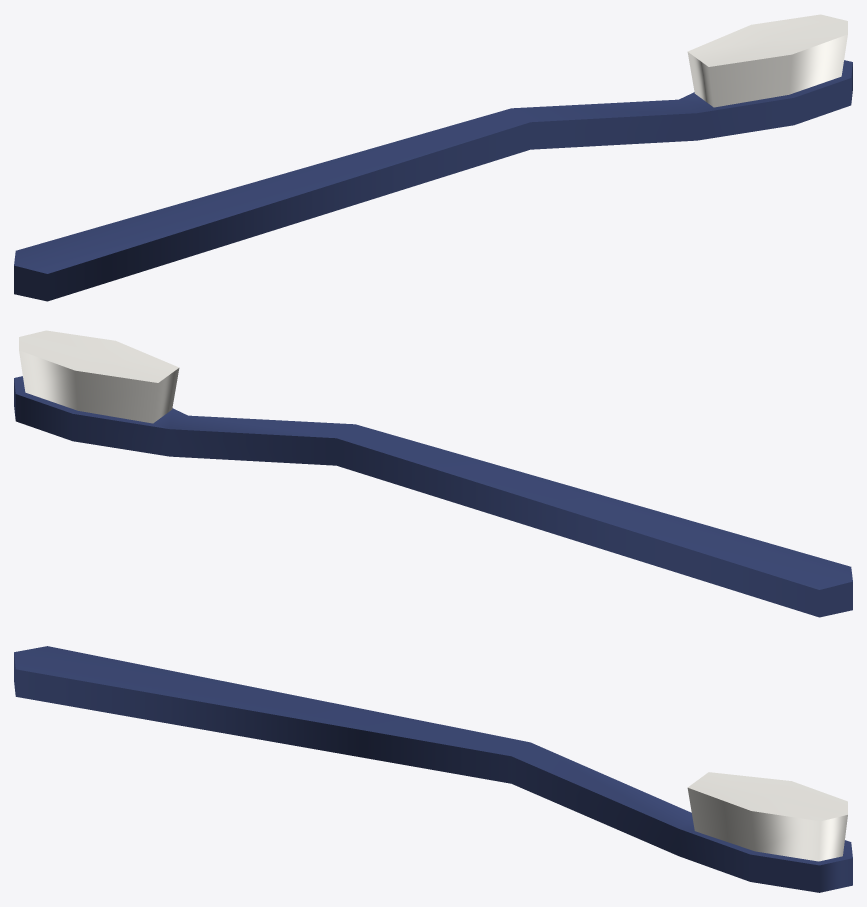
The model's file is SM_Tooth_Brush_1_03.fbx.
The picture shows the model from 3 angles, top to bottom: view 1: azimuth 30°, elevation 25°; view 2: azimuth 150°, elevation 25°; view 3: azimuth 330°, elevation 25°; orthographic projection.
Parts seen in each view (by area): view 1: SM_Tooth_Brush_1_03; view 2: SM_Tooth_Brush_1_03; view 3: SM_Tooth_Brush_1_03.
Part boxes in pixels (<box>): SM_Tooth_Brush_1_03: <box>14,14,852,301</box>; SM_Tooth_Brush_1_03: <box>14,330,852,617</box>; SM_Tooth_Brush_1_03: <box>14,646,852,892</box>.
Bounding box in the file's own units: 14.45 × 1.21 × 1.31.
